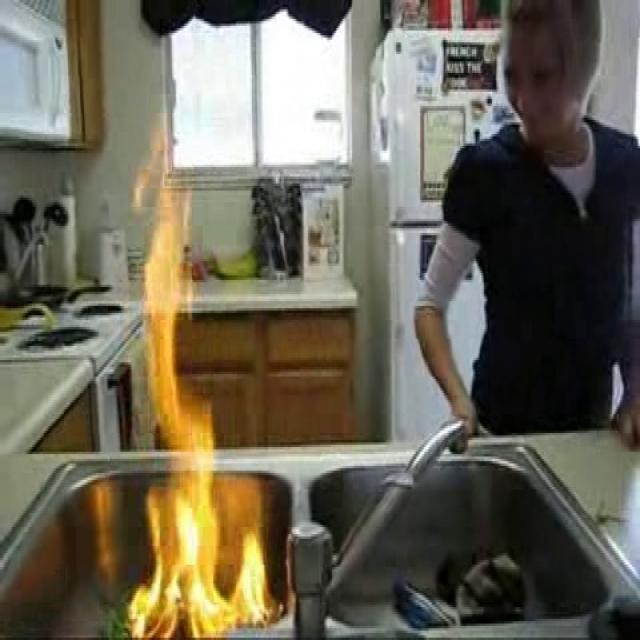Fire: (126, 170, 242, 624)
